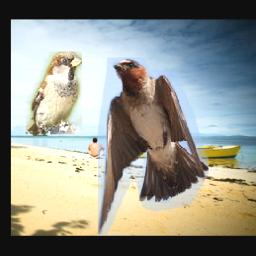Sparrow: (27, 52, 83, 134)
Swallow: (98, 57, 209, 235)
